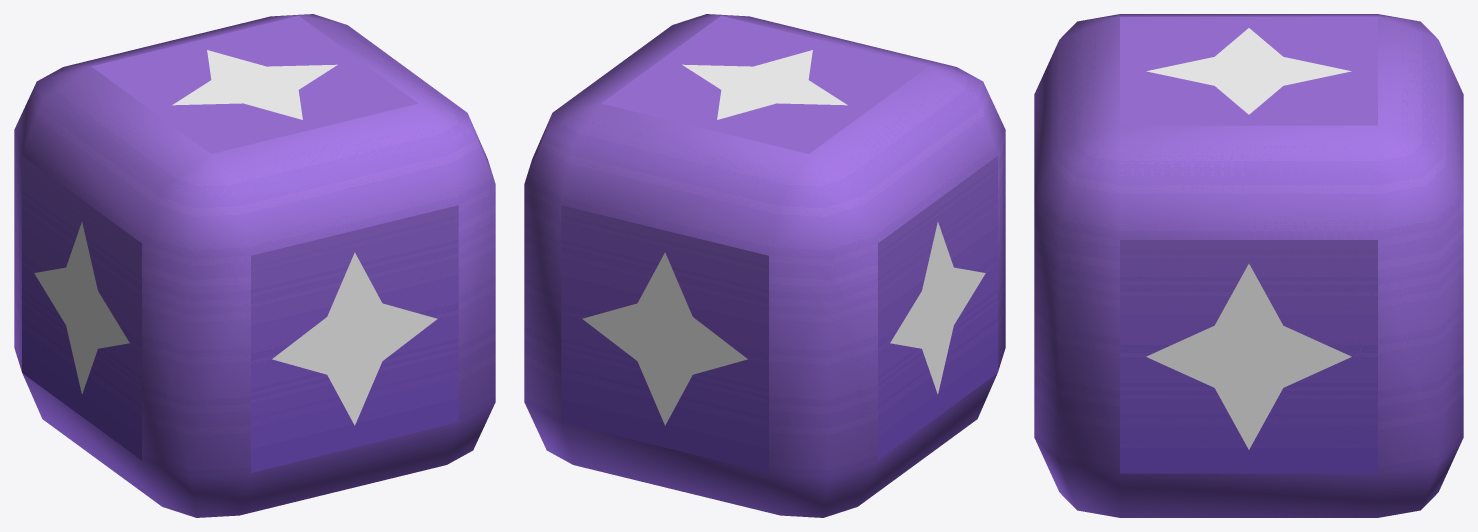
The model's file is item-box.glb.
The picture shows the model from 3 angles, left to right: view 1: azimuth 30°, elevation 25°; view 2: azimuth 150°, elevation 25°; view 3: azimuth 270°, elevation 25°; orthographic projection. The views are drawn at different scales.
Visible parts, largest first — view 1: item-box; view 2: item-box; view 3: item-box.
Boxes of the visible parts, x1=… form: item-box: x1=14, y1=14, x2=495, y2=517; item-box: x1=524, y1=14, x2=1005, y2=517; item-box: x1=1034, y1=14, x2=1463, y2=517.
Bounding box in the file's own units: 1.34 × 1.34 × 1.34.
Materials: 1 (1 with a texture image).
